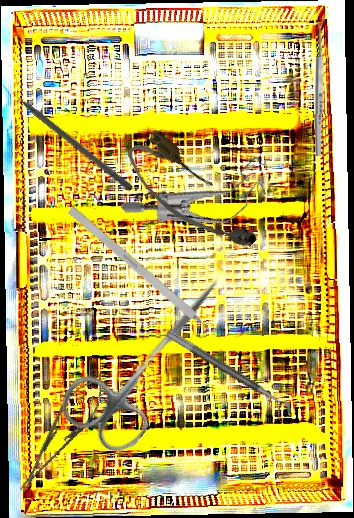Cannula: (118, 125, 265, 269)
Fixation Ring: (158, 328, 297, 426)
Hook Surgical: (67, 205, 225, 345)
Iris Scissors: (52, 250, 249, 463)
Needle Holder: (7, 366, 116, 501)
Pusher: (0, 81, 135, 192)
Speculum: (119, 115, 283, 271)
Surgical Spoon: (313, 14, 326, 157)
